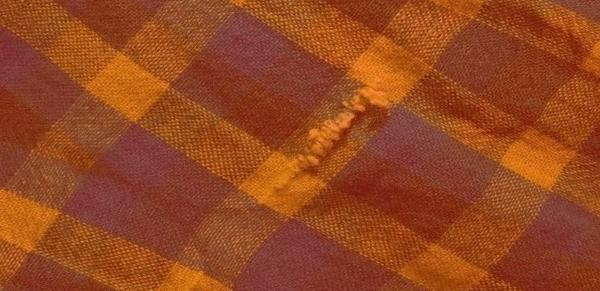knot: (261, 85, 397, 197)
